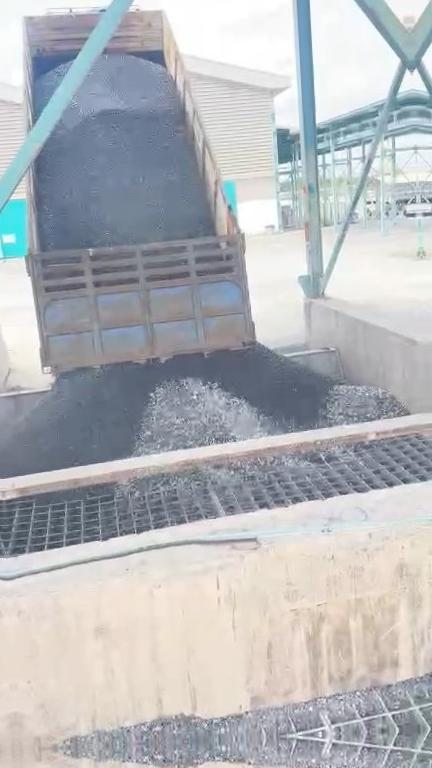gravel: (1, 344, 409, 478), (35, 53, 215, 248), (59, 670, 432, 748), (117, 445, 349, 499), (35, 60, 72, 120)
